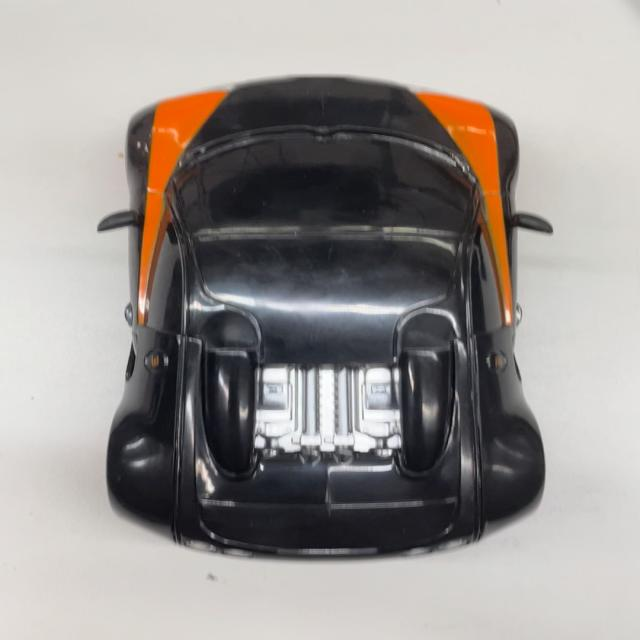vehicle_body: (93, 70, 567, 562)
